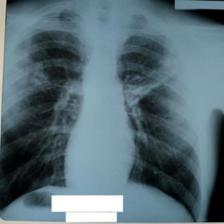tuberculosis: (0, 5, 205, 224)
